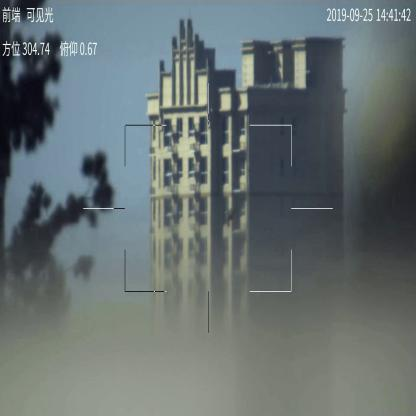uav: (218, 206, 239, 229)
